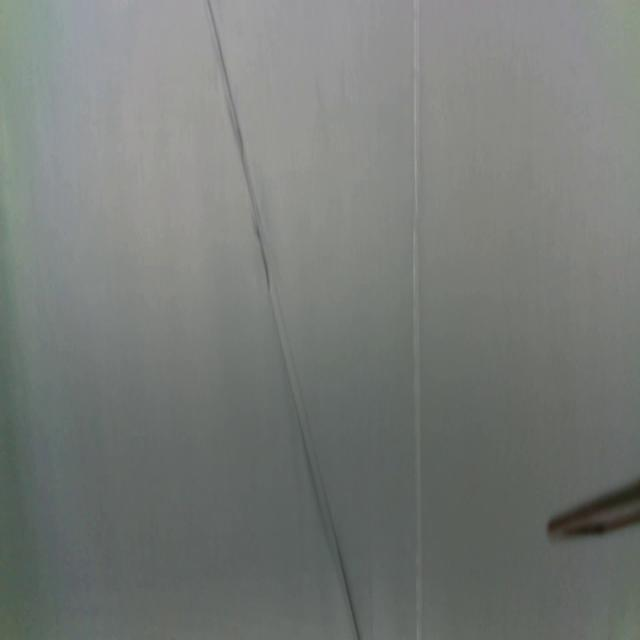crease: (209, 0, 361, 640), (410, 0, 422, 639)
